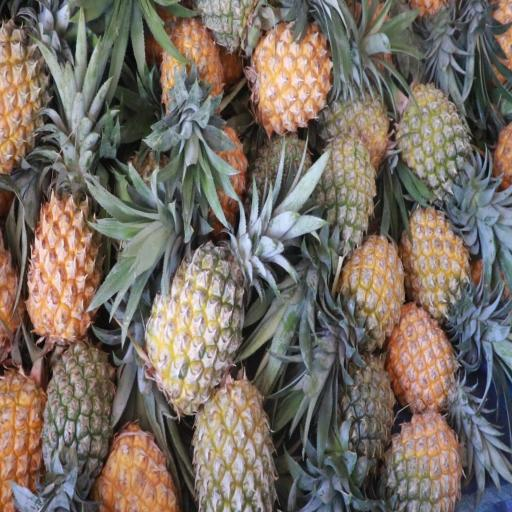------------------------------: (146, 241, 242, 400), (192, 381, 270, 512)
Pineapple - v8 v1: (28, 193, 99, 346), (0, 22, 51, 172), (252, 27, 328, 125), (404, 211, 469, 320), (390, 303, 455, 406), (0, 367, 46, 511), (100, 428, 177, 512), (342, 233, 402, 339), (161, 24, 222, 120)
